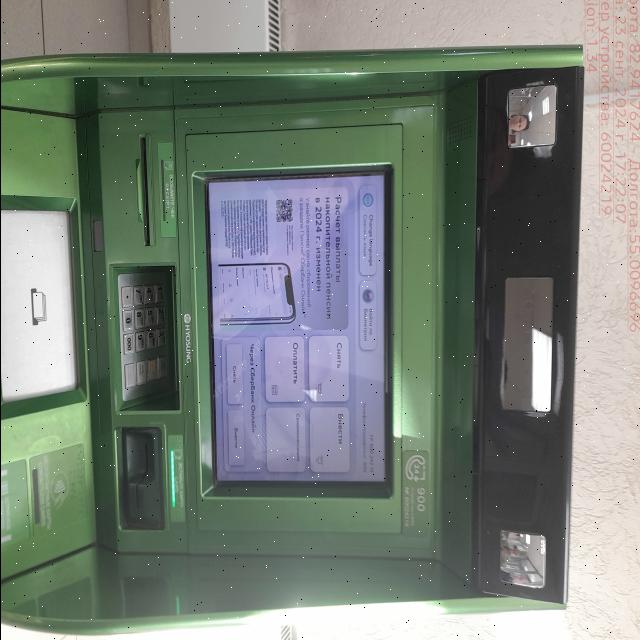bank: (0, 45, 582, 634)
